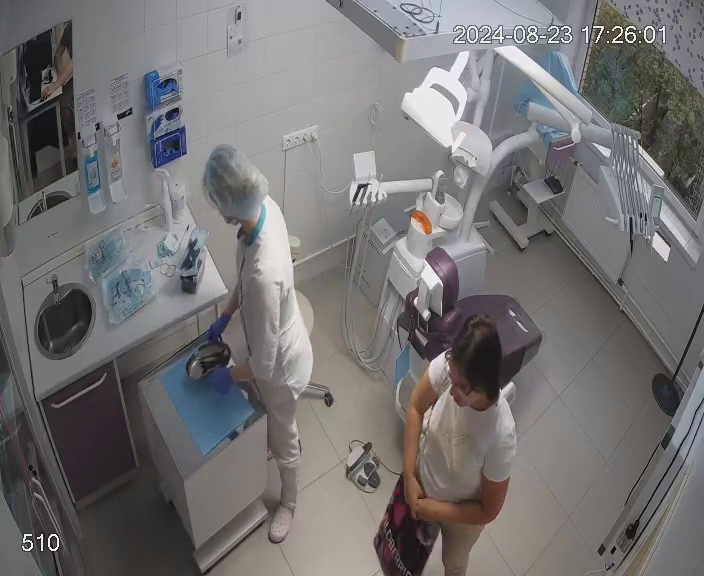Empty: (398, 246, 543, 383)
